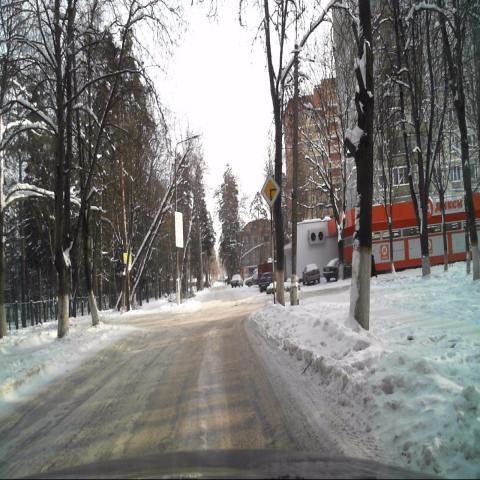2_1: (261, 175, 280, 208)
